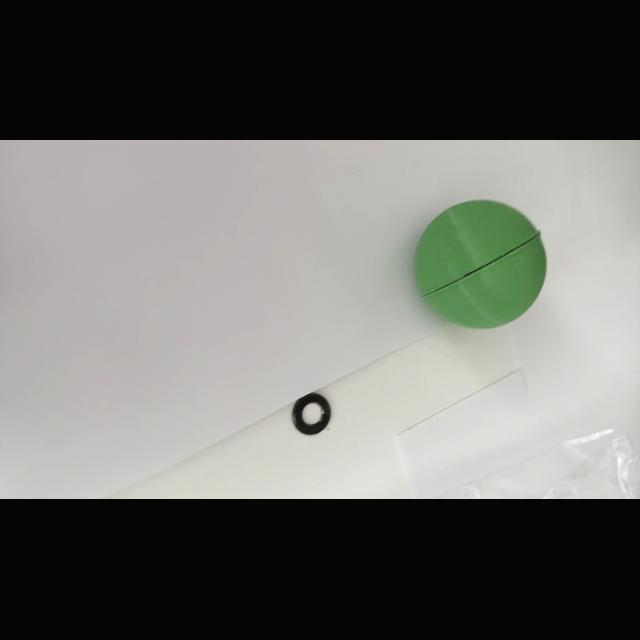objects: (406, 196, 554, 334)
